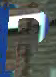Parking: (5, 5, 53, 76)
